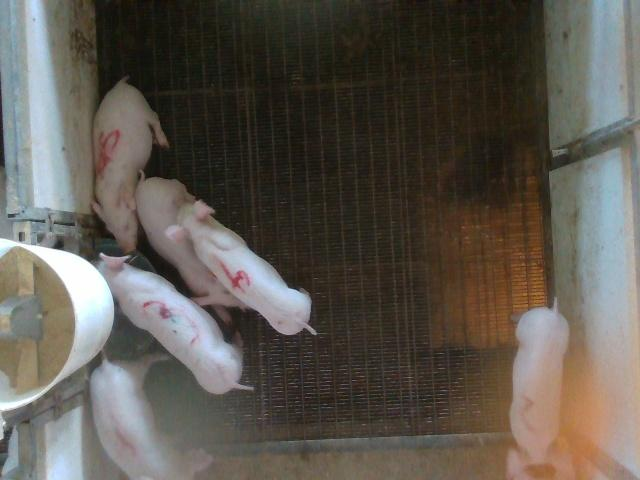pig-1: (90, 360, 176, 479)
pig-2: (506, 308, 575, 479)
pig-3: (98, 254, 251, 393)
pig-4: (165, 201, 315, 335)
pig-5: (92, 78, 169, 253)
